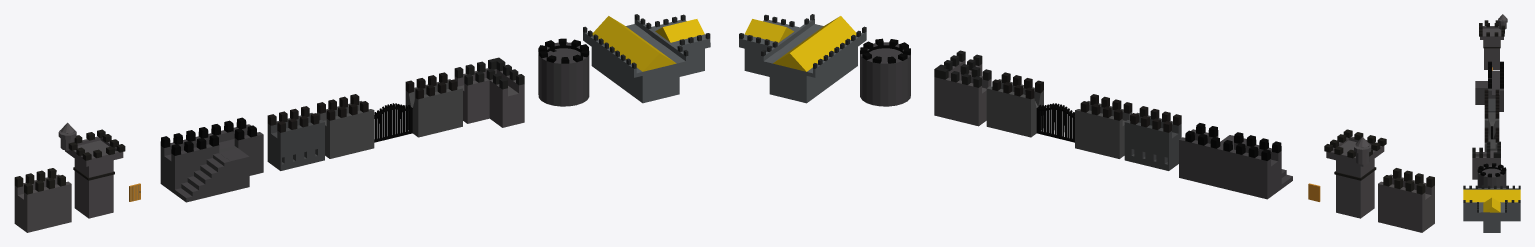
The model's file is blender kasteelFinal.fbx.
3 renders of one model, left to right at view 1: azimuth 30°, elevation 25°; view 2: azimuth 150°, elevation 25°; view 3: azimuth 270°, elevation 25°, orthographic. The views are drawn at different scales.
Visible parts, largest first — view 1: hoofd kasteel, poortmuur, muur met trap, uitkijktoren, hoekmuur, woontoren, muur, schietmuur; view 2: hoofd kasteel, poortmuur, muur met trap, uitkijktoren, hoekmuur, woontoren, muur, schietmuur; view 3: hoofd kasteel, uitkijktoren, muur met trap, woontoren, poortmuur, hoekmuur, schietmuur.
Part boxes in pixels (bbox=[...]): hoofd kasteel: bbox=[583, 14, 710, 103]; poortmuur: bbox=[317, 72, 462, 158]; muur met trap: bbox=[160, 117, 263, 202]; uitkijktoren: bbox=[58, 122, 125, 218]; hoekmuur: bbox=[454, 57, 524, 127]; woontoren: bbox=[538, 38, 589, 106]; muur: bbox=[14, 168, 71, 232]; schietmuur: bbox=[267, 106, 324, 170]; hoofd kasteel: bbox=[739, 14, 866, 103]; poortmuur: bbox=[986, 72, 1132, 158]; muur met trap: bbox=[1179, 123, 1292, 199]; uitkijktoren: bbox=[1324, 129, 1386, 218]; hoekmuur: bbox=[934, 50, 991, 126]; woontoren: bbox=[860, 38, 910, 106]; muur: bbox=[1378, 168, 1434, 232]; schietmuur: bbox=[1124, 106, 1181, 170]; hoofd kasteel: bbox=[1463, 185, 1520, 232]; uitkijktoren: bbox=[1479, 14, 1507, 69]; muur met trap: bbox=[1475, 61, 1503, 111]; woontoren: bbox=[1477, 163, 1506, 188]; poortmuur: bbox=[1484, 103, 1499, 151]; hoekmuur: bbox=[1472, 141, 1500, 179]; schietmuur: bbox=[1484, 89, 1499, 112].
Size of the model in its own units: 9155 by 1124 by 1200.
